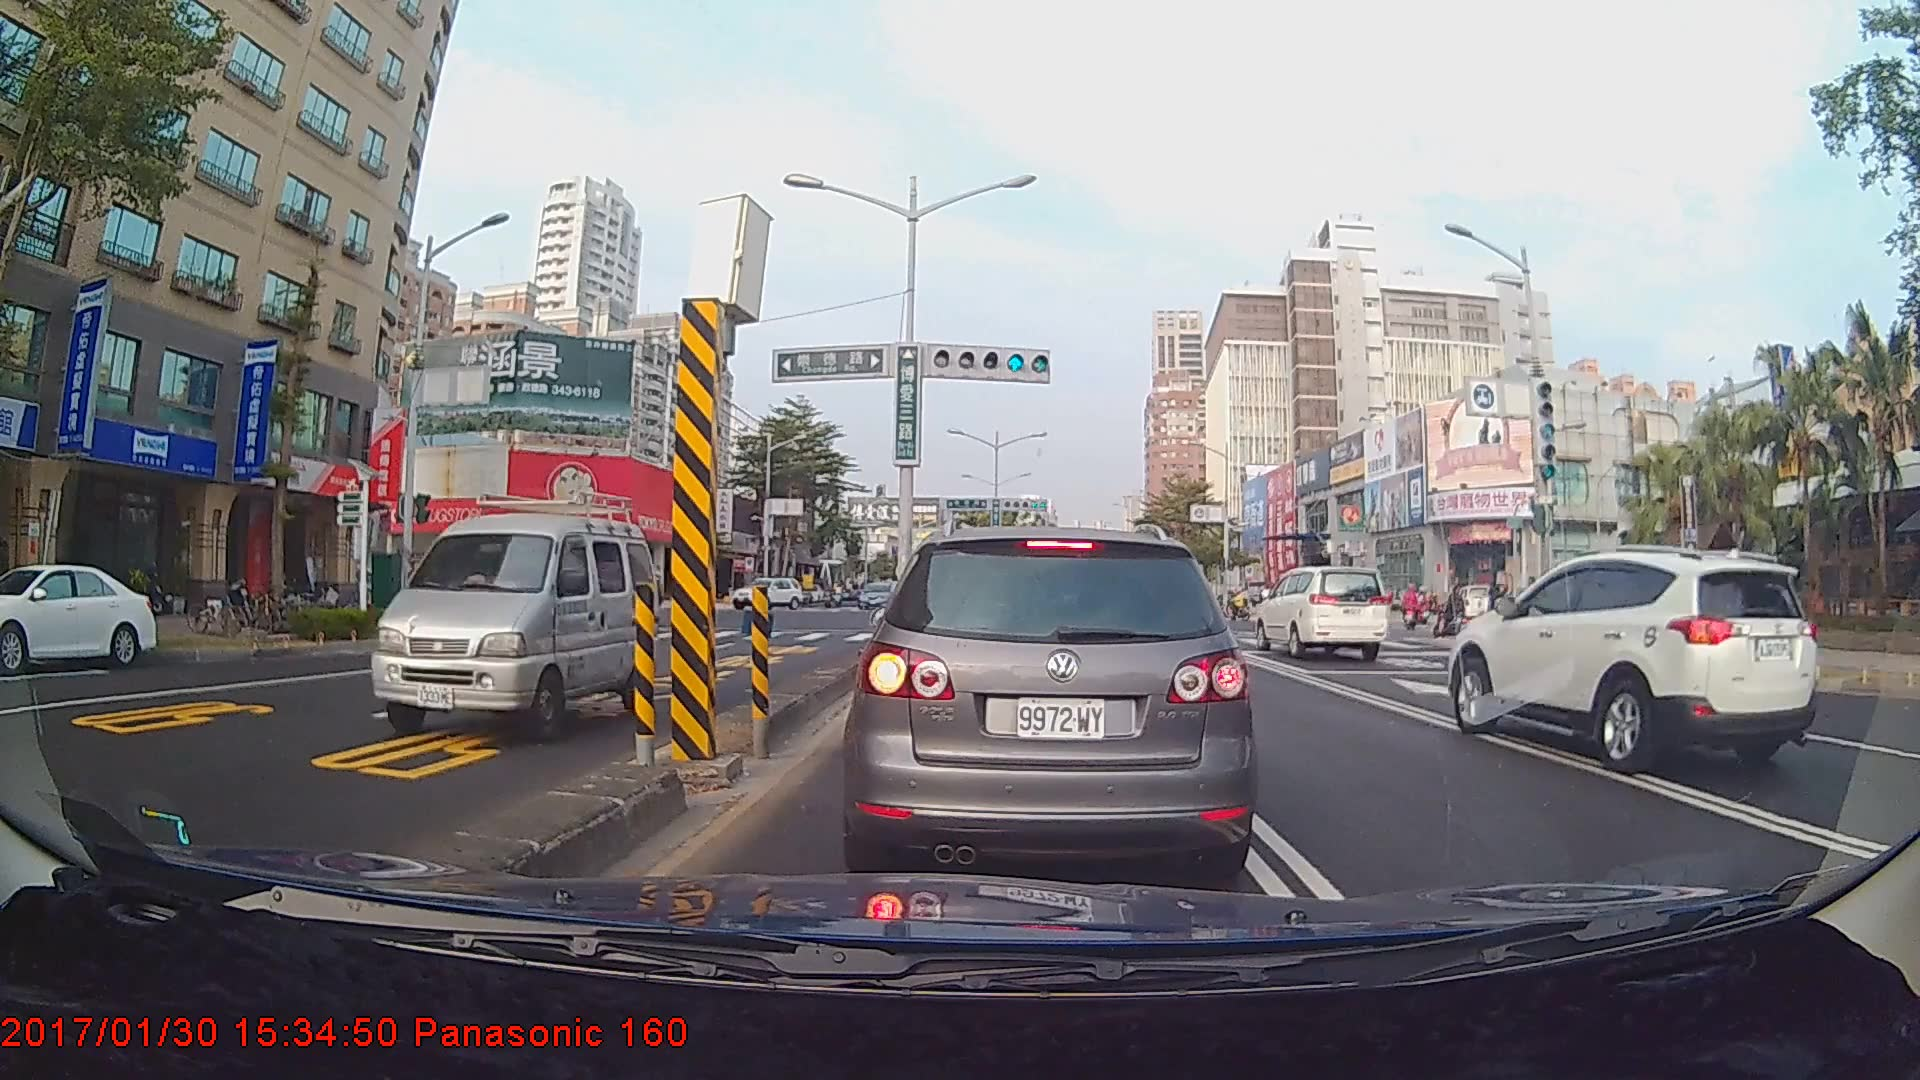rider: (1436, 582, 1473, 646), (1396, 580, 1420, 638)
vehicle: (852, 523, 1249, 881), (1446, 543, 1818, 771), (368, 489, 660, 740), (0, 561, 157, 671), (1252, 564, 1389, 661), (857, 580, 897, 611)
